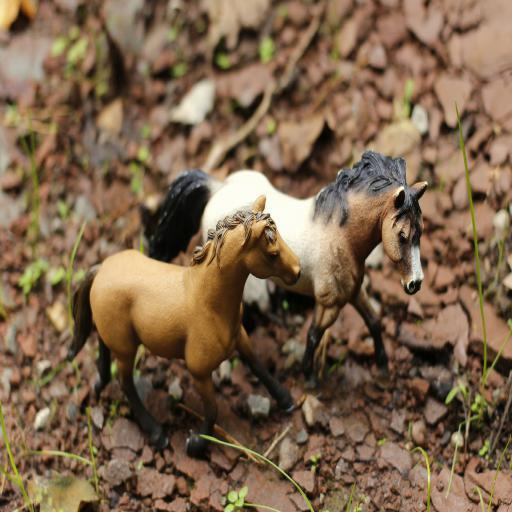horse: (142, 146, 430, 386), (64, 191, 304, 451)
